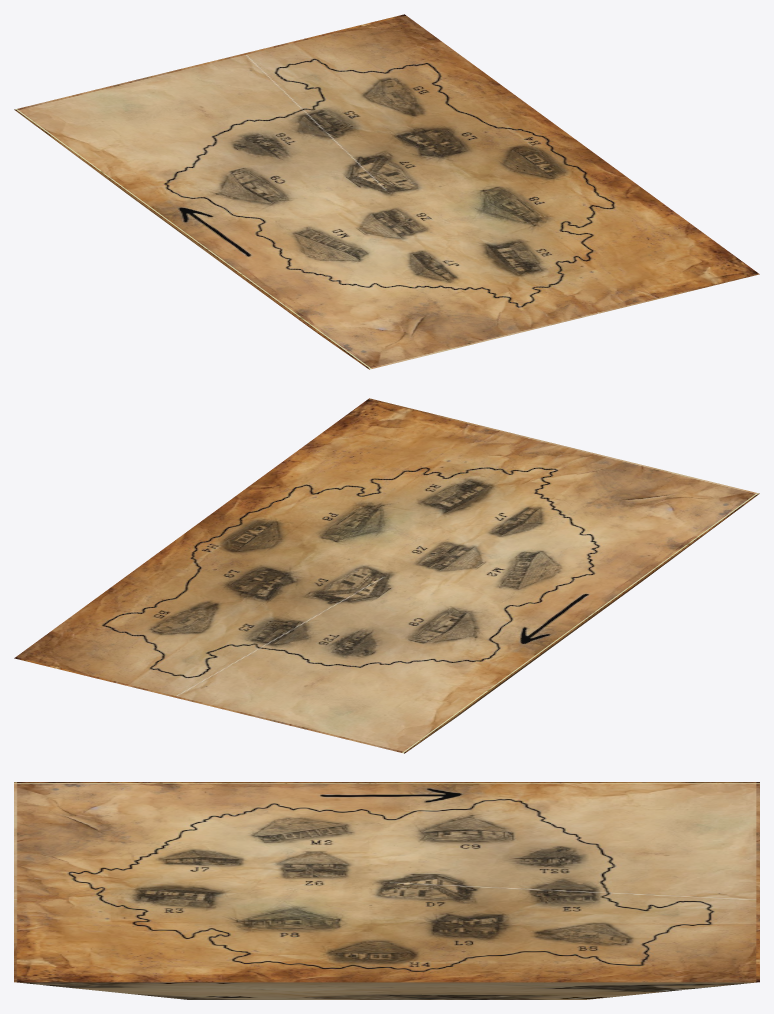
Rendered from romania.glb.
The picture shows the model from 3 angles, top to bottom: view 1: azimuth 30°, elevation 25°; view 2: azimuth 150°, elevation 25°; view 3: azimuth 270°, elevation 25°; orthographic projection. The views are drawn at different scales.
Visible parts, largest first — view 1: Cube; view 2: Cube; view 3: Cube.
Part boxes in pixels (left/top/right/bottom): Cube: left=14, top=14, right=759, bottom=369; Cube: left=14, top=398, right=759, bottom=753; Cube: left=14, top=782, right=759, bottom=999.
Size of the model in its own units: 2.38 by 0.1868 by 3.75.
1 material, 1 textured.
